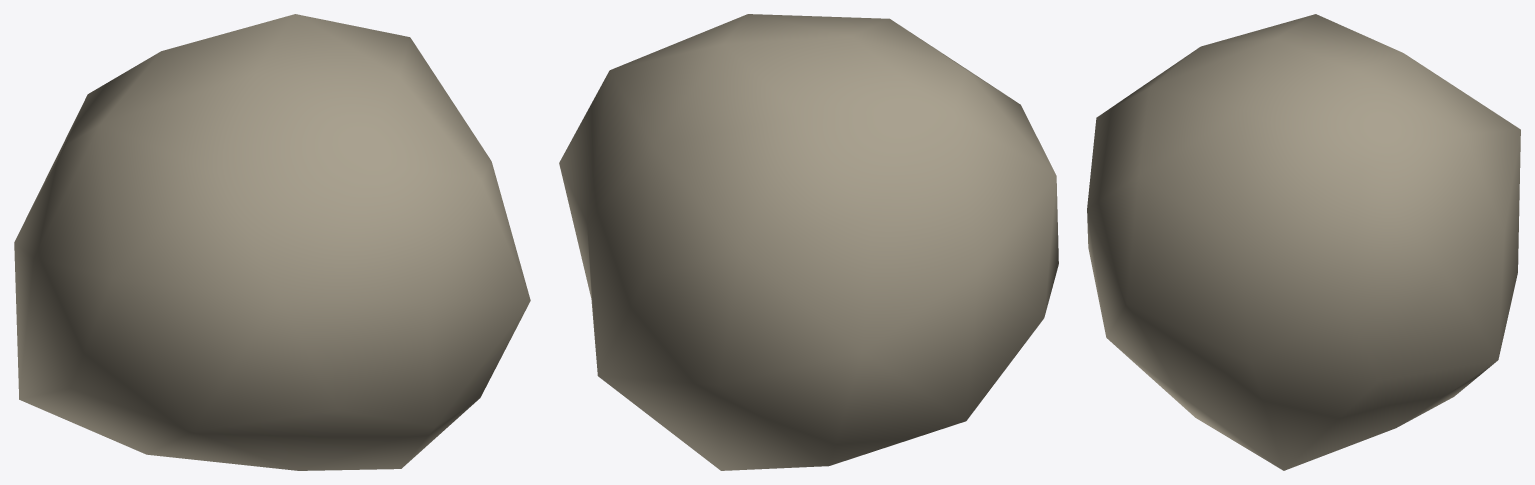
Rendered from material-stone-2.glb.
The picture shows the model from 3 angles, left to right: view 1: azimuth 30°, elevation 25°; view 2: azimuth 150°, elevation 25°; view 3: azimuth 270°, elevation 25°; orthographic projection. The views are drawn at different scales.
Parts seen in each view (by area): view 1: Stone.002; view 2: Stone.002; view 3: Stone.002.
Boxes of the visible parts, box(x1,y1,x2,y2) form: Stone.002: box(14, 14, 530, 470); Stone.002: box(559, 14, 1058, 470); Stone.002: box(1087, 14, 1520, 470).
Bounding box in the file's own units: 0.9762 × 0.8568 × 0.9075.
